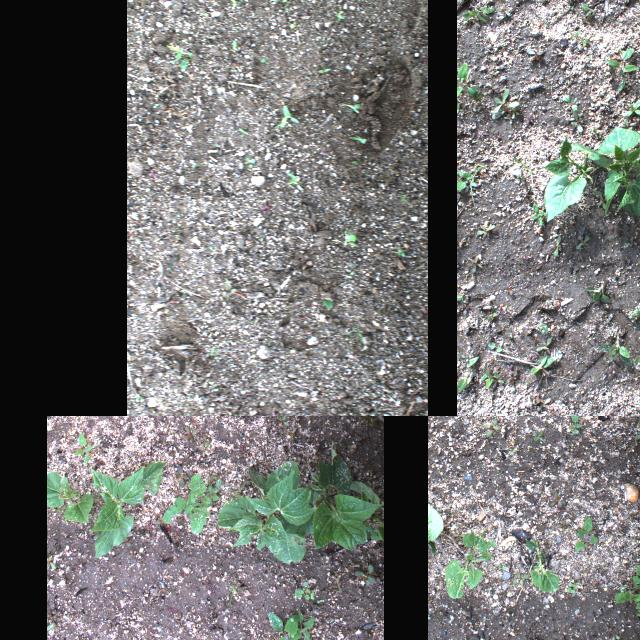crop: (216, 457, 320, 563), (311, 440, 381, 550), (88, 462, 164, 558), (542, 138, 610, 222), (596, 126, 640, 216), (444, 526, 494, 598), (46, 472, 96, 522), (524, 538, 560, 592), (456, 171, 469, 189)
weed: (162, 473, 222, 532), (613, 558, 640, 629), (265, 608, 315, 640), (604, 48, 638, 90), (598, 328, 632, 364), (489, 86, 518, 120), (456, 355, 478, 395), (574, 517, 598, 551), (165, 44, 193, 70), (456, 62, 476, 98), (510, 157, 532, 189), (274, 102, 300, 128), (73, 432, 93, 464), (529, 354, 557, 376), (460, 5, 494, 23), (470, 164, 482, 206), (354, 563, 376, 583), (586, 284, 610, 302), (339, 227, 358, 247), (482, 418, 501, 438), (295, 580, 315, 598), (482, 366, 498, 388), (619, 99, 640, 115), (548, 489, 566, 507), (570, 108, 582, 134), (530, 203, 544, 225), (172, 466, 186, 488), (468, 254, 482, 274), (463, 172, 477, 190), (526, 47, 544, 61), (338, 102, 362, 112), (474, 224, 494, 236), (596, 190, 608, 210), (578, 3, 594, 17), (536, 336, 550, 352), (536, 394, 550, 410), (551, 235, 561, 257), (154, 579, 166, 597), (569, 416, 580, 434), (564, 94, 576, 110), (491, 372, 503, 388), (484, 82, 500, 94), (530, 430, 546, 442), (512, 572, 528, 584), (348, 133, 367, 143), (361, 416, 378, 427), (286, 172, 300, 185), (576, 237, 590, 250), (320, 298, 334, 310), (496, 4, 510, 16), (486, 342, 502, 352), (509, 104, 519, 120), (272, 0, 289, 9), (356, 328, 364, 346), (46, 556, 58, 568), (566, 582, 578, 594), (620, 118, 630, 132), (276, 416, 288, 427), (502, 282, 511, 296), (502, 110, 512, 122), (580, 56, 590, 68), (556, 521, 568, 531), (538, 322, 548, 333), (133, 391, 143, 401), (328, 317, 338, 327), (506, 369, 516, 379), (635, 307, 640, 327), (258, 54, 270, 62), (244, 156, 252, 168), (222, 0, 238, 6), (580, 35, 588, 47), (528, 394, 540, 402), (456, 103, 464, 115), (634, 424, 640, 439), (633, 354, 640, 366), (485, 34, 491, 48), (398, 194, 408, 202), (396, 248, 406, 256), (334, 10, 344, 18), (287, 22, 297, 30), (237, 126, 247, 134), (486, 312, 496, 320), (210, 346, 217, 356), (316, 68, 332, 72), (629, 238, 637, 246), (230, 584, 238, 592), (231, 40, 237, 50), (629, 316, 639, 322), (507, 448, 517, 454), (452, 532, 466, 536), (498, 564, 506, 570), (349, 269, 355, 275), (518, 410, 524, 416), (352, 160, 360, 164), (350, 169, 354, 177), (638, 66, 640, 81), (637, 398, 640, 407), (375, 312, 381, 316), (624, 242, 630, 246), (516, 173, 522, 177)
